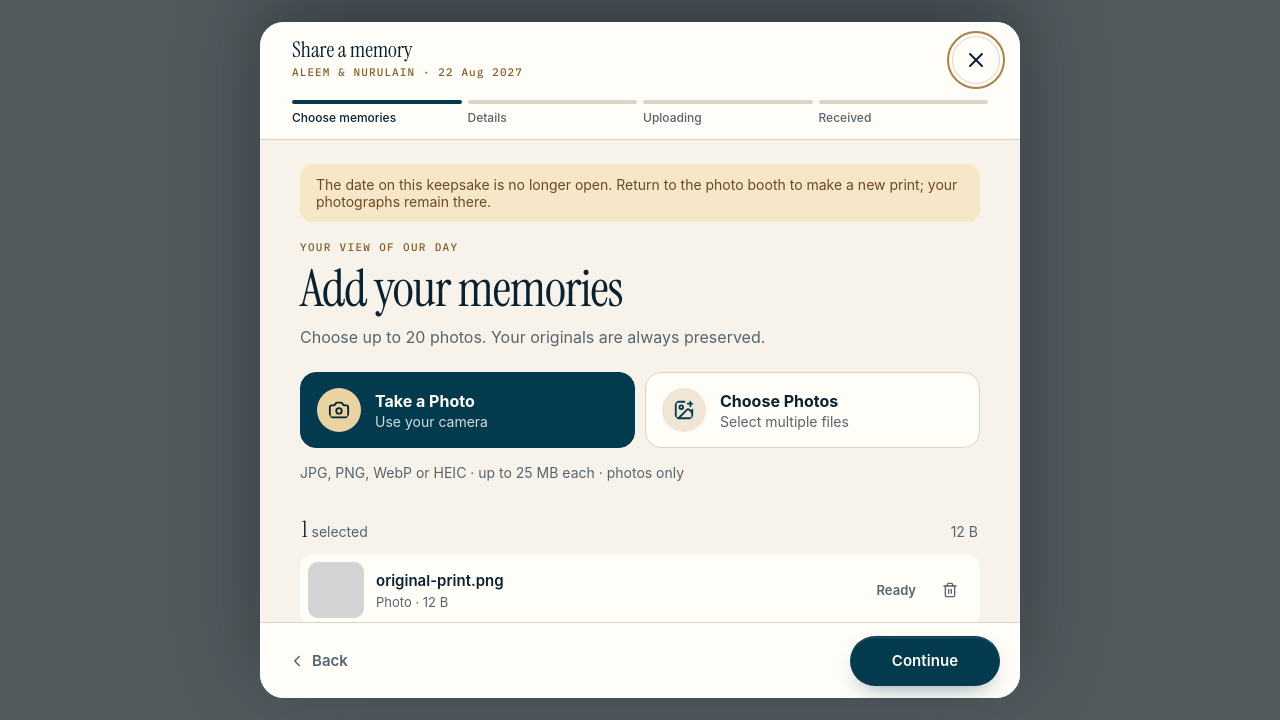
day-aware upload preparation › does not relabel or submit a print whose date has become hidden
Click the button "Continue": (925, 661) [850,636,1000,686]
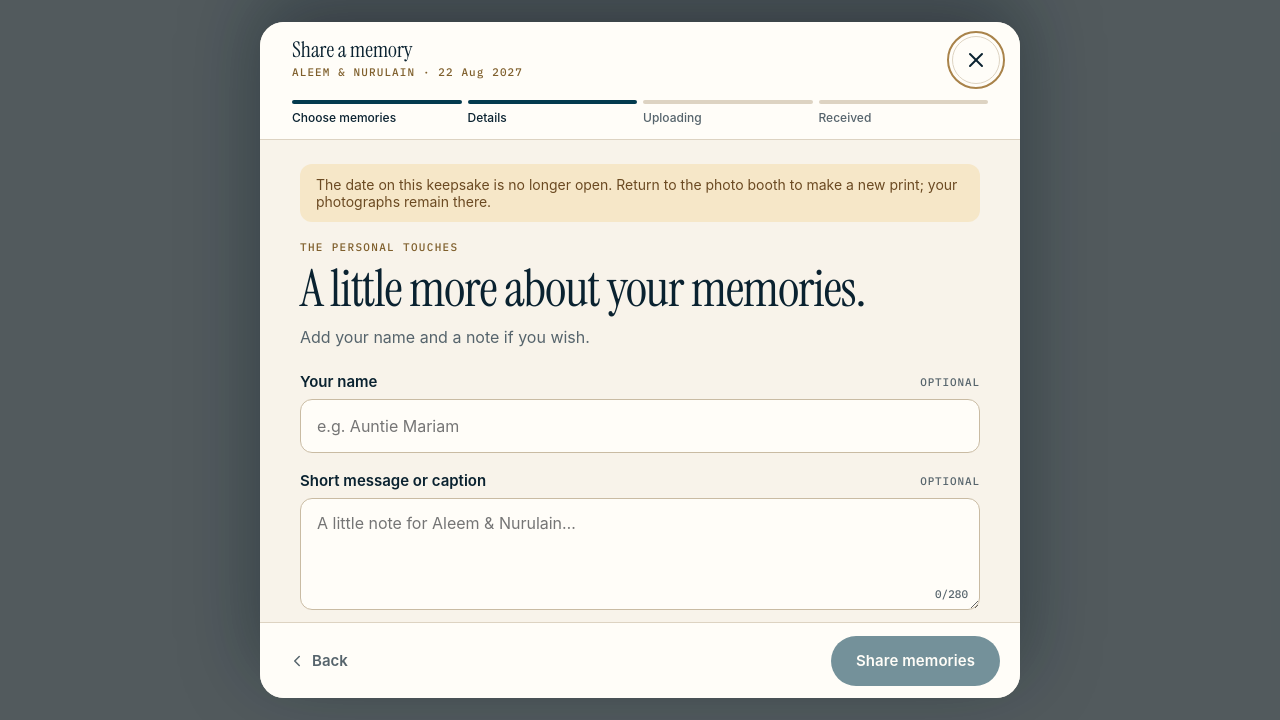
Expected: the message shows "Return to the photo booth", [316,176,957,210]
Expected: the heading "A little more about your memories." is shown, [300,263,920,315]
Expected: the button "Share memories" is disabled, [831,636,1000,686]
Click the button "Back": (318, 661) [280,637,356,685]
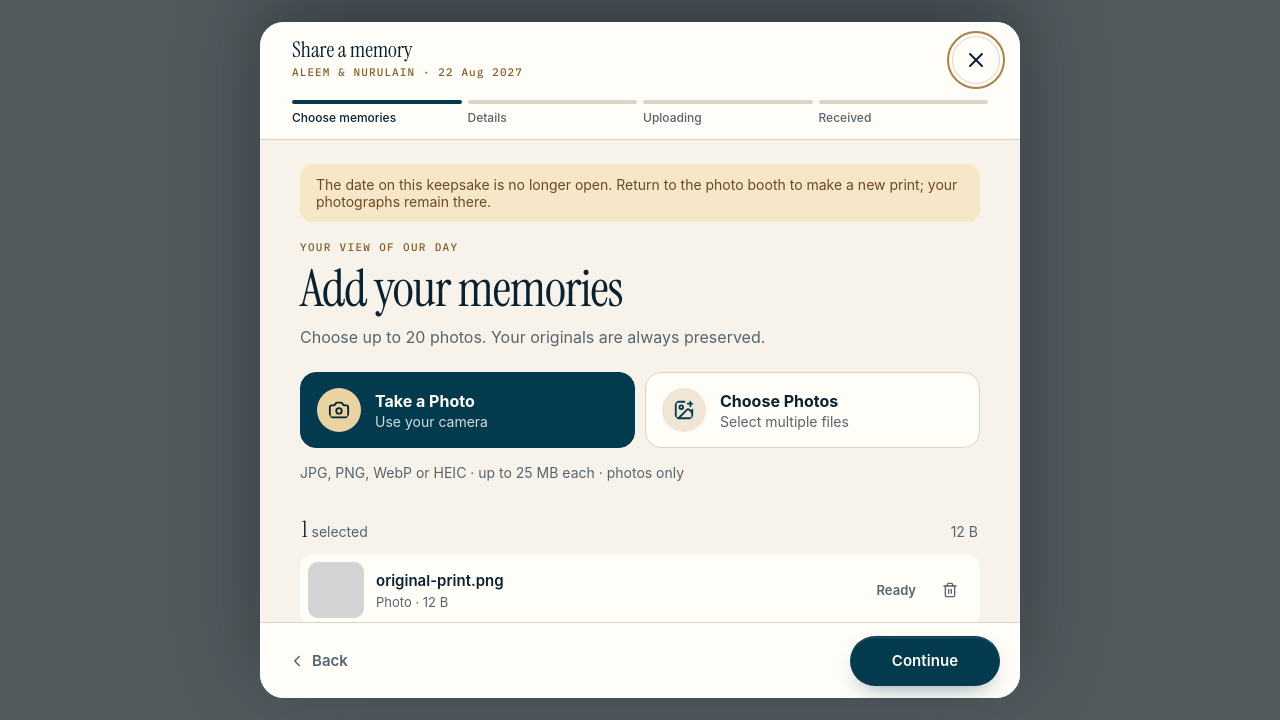
Expected: the text "original-print.png" is shown, [376,570,504,590]
